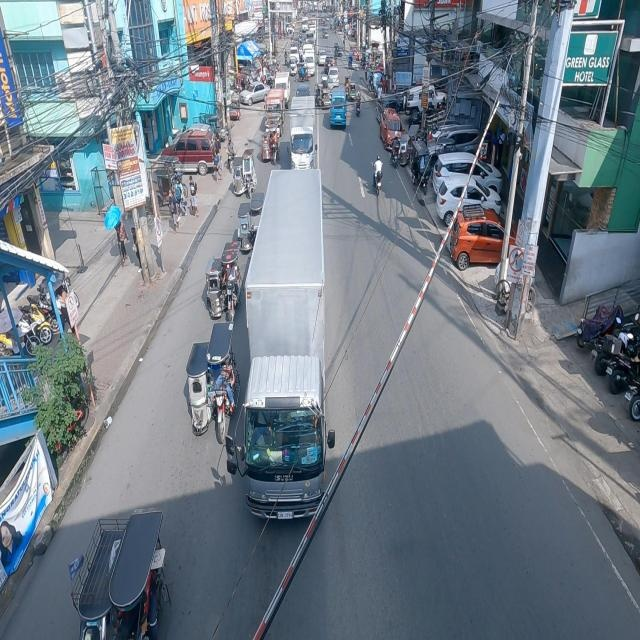Truck: (240, 172, 327, 520), (290, 97, 317, 170)
